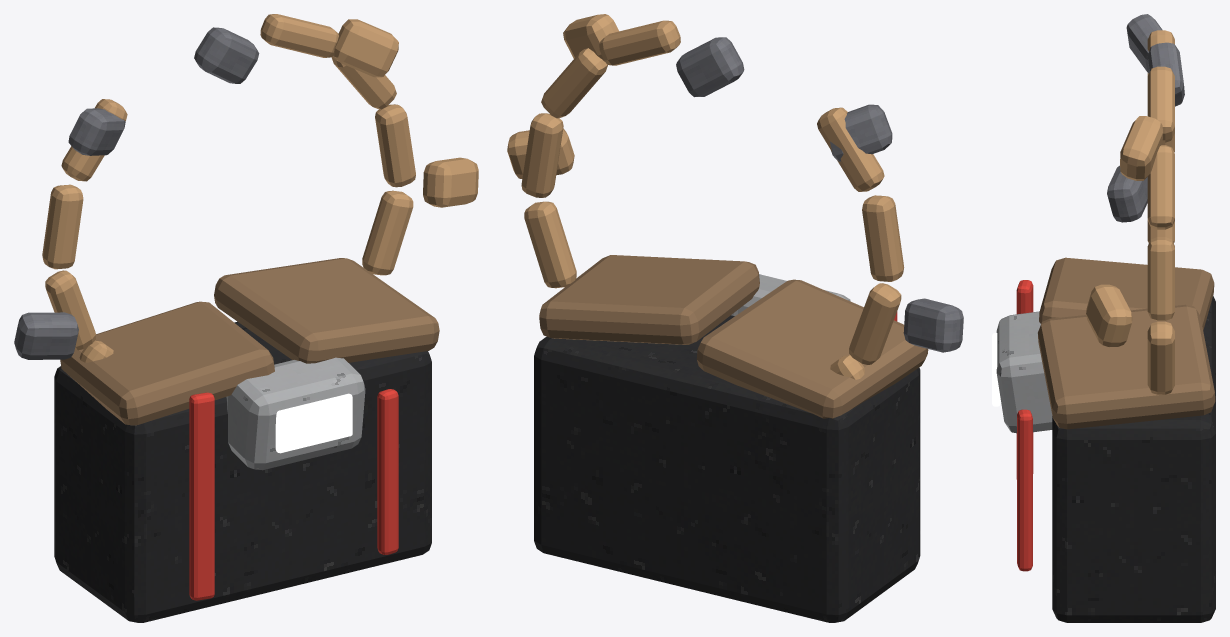
File: cult_finale_focus.glb
3 renders of one model, left to right at view 1: azimuth 30°, elevation 25°; view 2: azimuth 150°, elevation 25°; view 3: azimuth 270°, elevation 25°, orthographic. The views are drawn at different scales.
Visible parts, largest first — view 1: CULT_FINALE_FOCUS__Consumed_Plinth, CULT_FINALE_FOCUS__Split_Top_R, CULT_FINALE_FOCUS__Split_Top_L, CULT_FINALE_FOCUS__Chemical_Seal_Core, CULT_FINALE_FOCUS__Dark_Fluid_L, CULT_FINALE_FOCUS__Dark_Fluid_R, CULT_FINALE_FOCUS__Seal_Emissive_Channel, CULT_FINALE_FOCUS__Broken_Ritual_Ring_04, CULT_FINALE_FOCUS__Orbiting_Fragment_1, CULT_FINALE_FOCUS__Broken_Ritual_Ring_10, CULT_FINALE_FOCUS__Orbiting_Fragment_4, CULT_FINALE_FOCUS__Orbiting_Fragment_5 (+7 smaller); view 2: CULT_FINALE_FOCUS__Consumed_Plinth, CULT_FINALE_FOCUS__Split_Top_L, CULT_FINALE_FOCUS__Split_Top_R, CULT_FINALE_FOCUS__Broken_Ritual_Ring_04, CULT_FINALE_FOCUS__Broken_Ritual_Ring_10, CULT_FINALE_FOCUS__Orbiting_Fragment_5, CULT_FINALE_FOCUS__Orbiting_Fragment_1, CULT_FINALE_FOCUS__Broken_Ritual_Ring_03, CULT_FINALE_FOCUS__Broken_Ritual_Ring_09, CULT_FINALE_FOCUS__Broken_Ritual_Ring_01, CULT_FINALE_FOCUS__Broken_Ritual_Ring_11, CULT_FINALE_FOCUS__Broken_Ritual_Ring_02 (+4 smaller); view 3: CULT_FINALE_FOCUS__Consumed_Plinth, CULT_FINALE_FOCUS__Split_Top_R, CULT_FINALE_FOCUS__Split_Top_L, CULT_FINALE_FOCUS__Chemical_Seal_Core, CULT_FINALE_FOCUS__Dark_Fluid_R, CULT_FINALE_FOCUS__Broken_Ritual_Ring_03, CULT_FINALE_FOCUS__Orbiting_Fragment_2, CULT_FINALE_FOCUS__Orbiting_Fragment_4, CULT_FINALE_FOCUS__Broken_Ritual_Ring_02, CULT_FINALE_FOCUS__Broken_Ritual_Ring_04, CULT_FINALE_FOCUS__Broken_Ritual_Ring_01, CULT_FINALE_FOCUS__Orbiting_Fragment_1 (+6 smaller).
Part boxes in pixels (bbox=[...]): CULT_FINALE_FOCUS__Consumed_Plinth: bbox=[54, 321, 431, 622]; CULT_FINALE_FOCUS__Split_Top_R: bbox=[214, 258, 439, 363]; CULT_FINALE_FOCUS__Split_Top_L: bbox=[60, 301, 274, 425]; CULT_FINALE_FOCUS__Chemical_Seal_Core: bbox=[226, 357, 365, 470]; CULT_FINALE_FOCUS__Dark_Fluid_L: bbox=[189, 392, 214, 600]; CULT_FINALE_FOCUS__Dark_Fluid_R: bbox=[377, 389, 398, 554]; CULT_FINALE_FOCUS__Seal_Emissive_Channel: bbox=[275, 393, 352, 453]; CULT_FINALE_FOCUS__Broken_Ritual_Ring_04: bbox=[362, 190, 413, 275]; CULT_FINALE_FOCUS__Orbiting_Fragment_1: bbox=[14, 312, 78, 359]; CULT_FINALE_FOCUS__Broken_Ritual_Ring_10: bbox=[42, 184, 83, 269]; CULT_FINALE_FOCUS__Orbiting_Fragment_4: bbox=[333, 19, 398, 77]; CULT_FINALE_FOCUS__Orbiting_Fragment_5: bbox=[194, 27, 259, 83]; CULT_FINALE_FOCUS__Consumed_Plinth: bbox=[534, 315, 920, 622]; CULT_FINALE_FOCUS__Split_Top_L: bbox=[696, 279, 928, 418]; CULT_FINALE_FOCUS__Split_Top_R: bbox=[539, 255, 759, 344]; CULT_FINALE_FOCUS__Broken_Ritual_Ring_04: bbox=[524, 201, 576, 288]; CULT_FINALE_FOCUS__Broken_Ritual_Ring_10: bbox=[862, 195, 904, 281]; CULT_FINALE_FOCUS__Orbiting_Fragment_5: bbox=[676, 37, 744, 97]; CULT_FINALE_FOCUS__Orbiting_Fragment_1: bbox=[903, 298, 963, 352]; CULT_FINALE_FOCUS__Broken_Ritual_Ring_03: bbox=[521, 113, 563, 197]; CULT_FINALE_FOCUS__Broken_Ritual_Ring_09: bbox=[849, 283, 901, 364]; CULT_FINALE_FOCUS__Broken_Ritual_Ring_01: bbox=[599, 20, 680, 65]; CULT_FINALE_FOCUS__Broken_Ritual_Ring_11: bbox=[817, 107, 884, 191]; CULT_FINALE_FOCUS__Broken_Ritual_Ring_02: bbox=[541, 48, 607, 118]; CULT_FINALE_FOCUS__Consumed_Plinth: bbox=[1052, 296, 1215, 622]; CULT_FINALE_FOCUS__Split_Top_R: bbox=[1037, 304, 1215, 429]; CULT_FINALE_FOCUS__Split_Top_L: bbox=[1039, 257, 1214, 330]; CULT_FINALE_FOCUS__Chemical_Seal_Core: bbox=[996, 311, 1052, 433]; CULT_FINALE_FOCUS__Dark_Fluid_R: bbox=[1017, 409, 1032, 571]; CULT_FINALE_FOCUS__Broken_Ritual_Ring_03: bbox=[1147, 237, 1174, 320]; CULT_FINALE_FOCUS__Orbiting_Fragment_2: bbox=[1086, 284, 1132, 346]; CULT_FINALE_FOCUS__Orbiting_Fragment_4: bbox=[1120, 116, 1162, 180]; CULT_FINALE_FOCUS__Broken_Ritual_Ring_02: bbox=[1147, 145, 1174, 229]; CULT_FINALE_FOCUS__Broken_Ritual_Ring_04: bbox=[1147, 321, 1174, 394]; CULT_FINALE_FOCUS__Broken_Ritual_Ring_01: bbox=[1147, 66, 1174, 142]; CULT_FINALE_FOCUS__Orbiting_Fragment_1: bbox=[1107, 165, 1147, 222].
Bounding box in the file's own units: 2.03 × 2.27 × 0.9025.
Materials: 7 (3 with a texture image).
